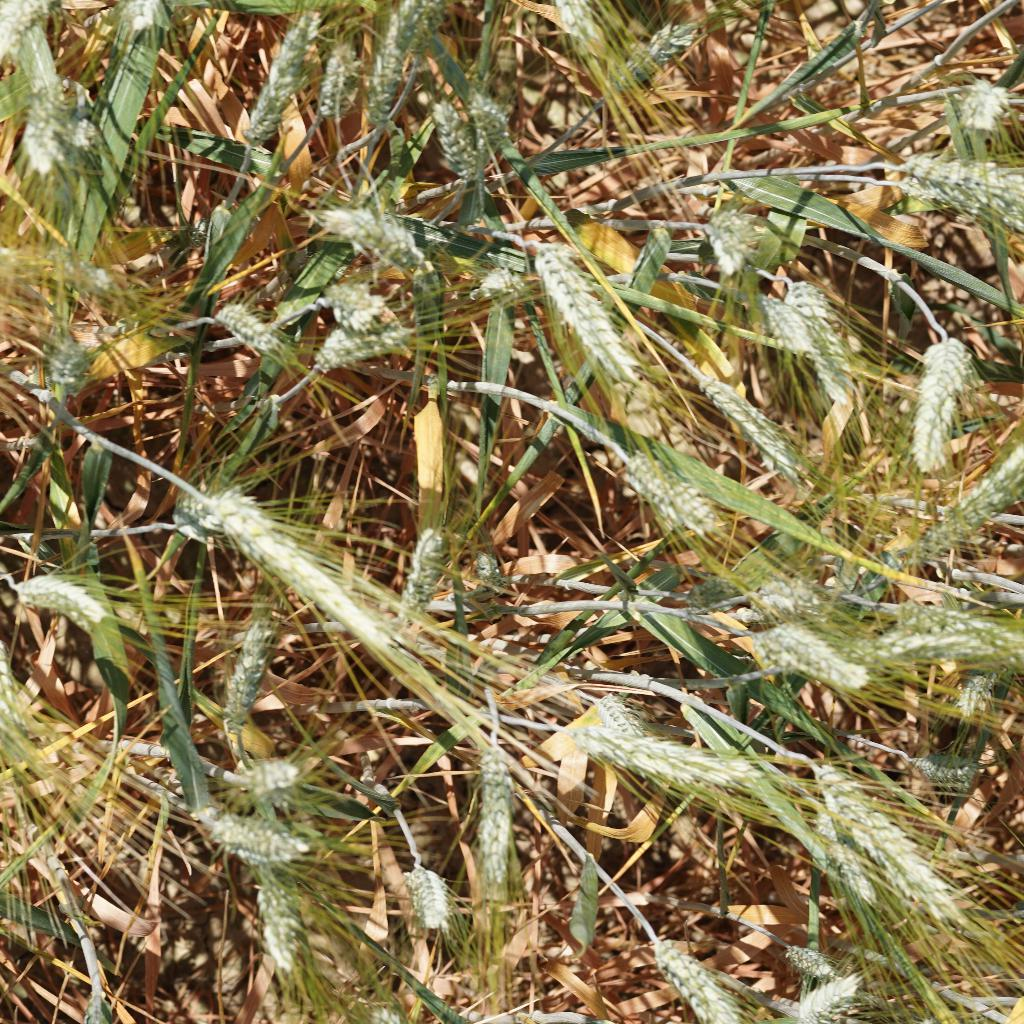0-0: (209, 488, 395, 658), (810, 757, 960, 916), (526, 228, 658, 391), (890, 438, 1023, 565), (209, 3, 321, 146), (608, 419, 732, 546), (676, 344, 798, 471), (834, 570, 1013, 646), (578, 717, 740, 798), (909, 306, 986, 475), (313, 182, 437, 276), (744, 616, 884, 698), (789, 791, 881, 905), (647, 933, 758, 1024), (202, 602, 279, 733), (355, 0, 432, 126), (455, 742, 518, 892), (7, 70, 90, 179), (306, 309, 411, 393), (0, 553, 107, 635), (591, 11, 695, 92), (878, 148, 1024, 202), (249, 866, 317, 974), (194, 808, 309, 870), (894, 169, 1024, 223), (881, 612, 996, 673), (419, 98, 494, 191), (739, 279, 814, 366), (205, 287, 286, 366), (691, 194, 766, 277), (720, 561, 825, 620), (310, 27, 369, 124), (397, 509, 449, 619), (777, 960, 864, 1024), (950, 67, 1020, 146), (468, 83, 533, 164), (403, 848, 456, 945), (299, 279, 387, 335), (168, 485, 245, 548), (23, 329, 93, 395), (0, 0, 70, 59), (470, 247, 524, 313), (235, 758, 318, 800), (586, 688, 645, 742), (953, 660, 993, 735), (778, 931, 840, 975), (464, 542, 515, 594)
